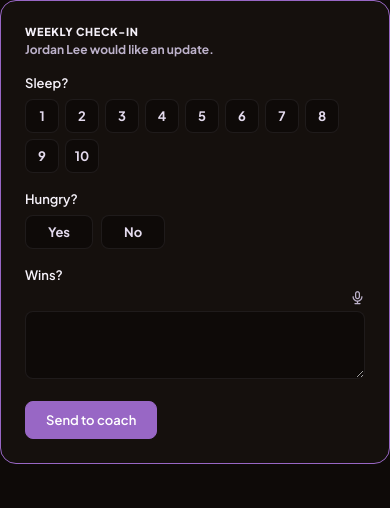
CoachCheckinCard › will not send until every scale and yes/no question is answered, and says which is missing
Click the button "Send to coach" at point(91, 420), box [25,401,157,439]
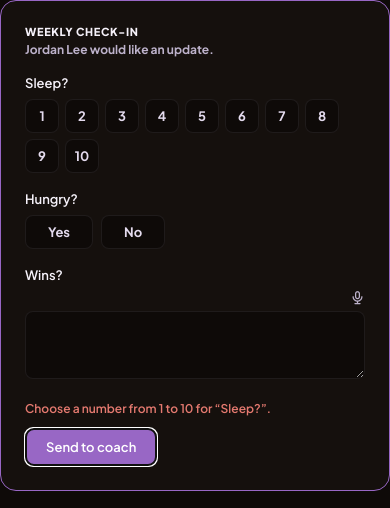
Result: the message shows "Sleep?" at [25,401,271,416]
Click the button "7" at point(282, 116), box [265,99,299,133]
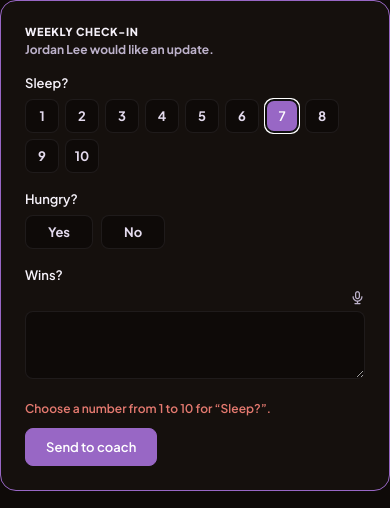
Click the button "Send to coach" at point(91, 447), box [25,428,157,466]
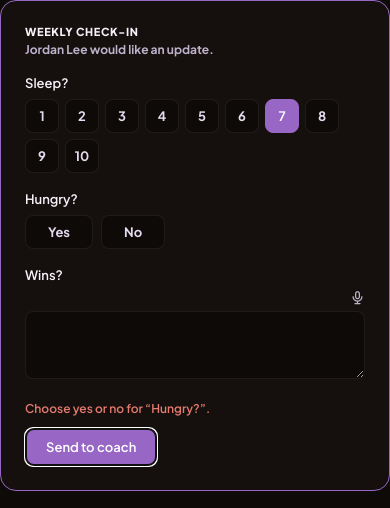
Result: the message shows "Hungry?" at [25,401,210,416]
